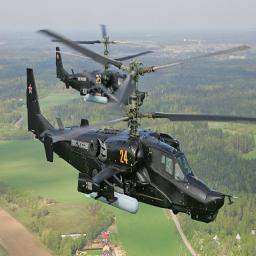helicopter: (15, 70, 242, 247), (32, 19, 203, 113)
